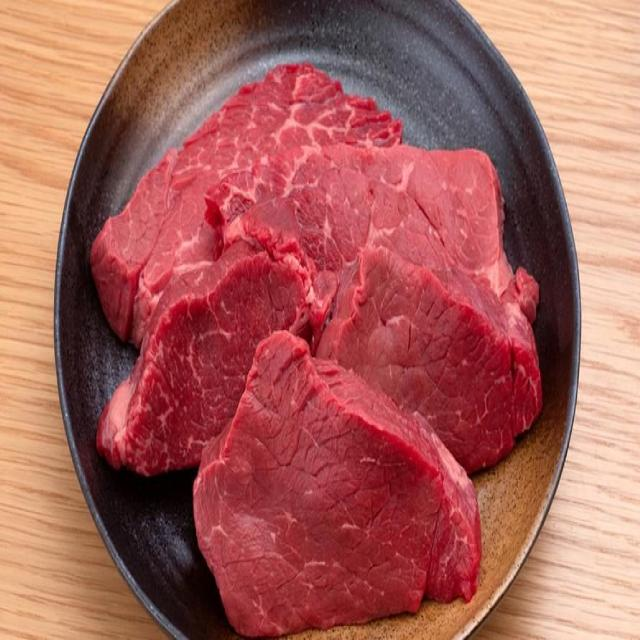beef: (90, 56, 465, 334), (184, 321, 472, 640), (333, 217, 545, 450), (102, 251, 340, 451)
